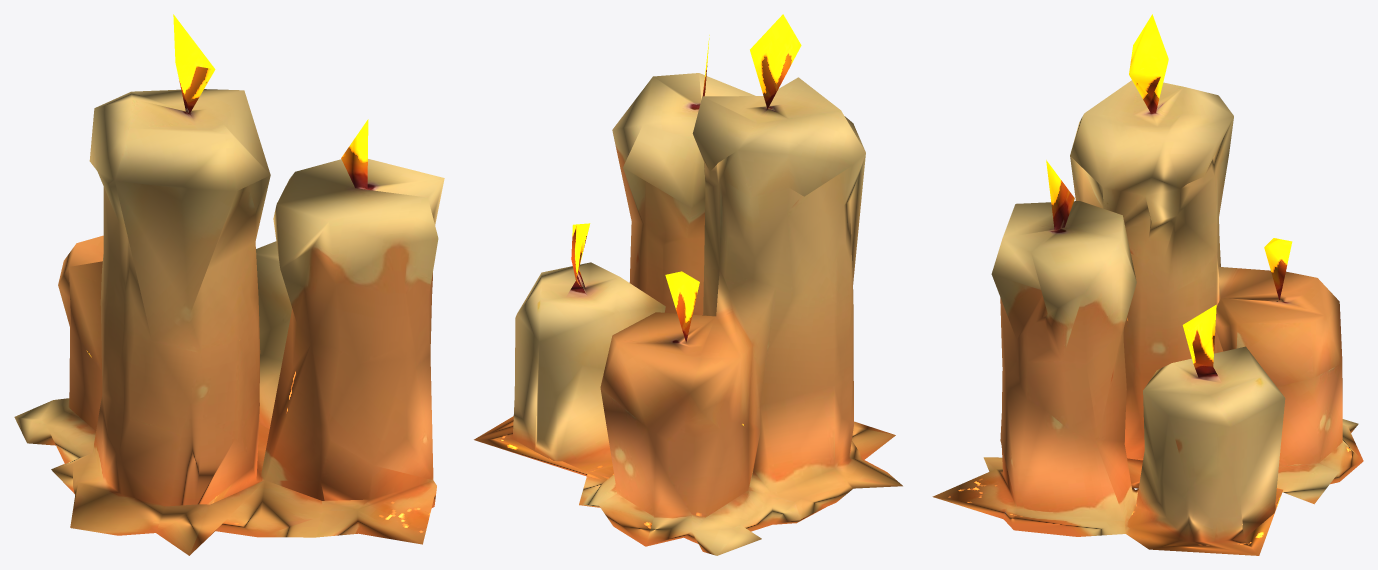
The model's file is cr_candles-KfvzY1RT.glb.
3 renders of one model, left to right at view 1: azimuth 30°, elevation 25°; view 2: azimuth 150°, elevation 25°; view 3: azimuth 270°, elevation 25°, orthographic. The views are drawn at different scales.
Visible parts, largest first — view 1: tripo_node_33cfa975-b57f-4ea0-9b36-2427ceab09d9; view 2: tripo_node_33cfa975-b57f-4ea0-9b36-2427ceab09d9; view 3: tripo_node_33cfa975-b57f-4ea0-9b36-2427ceab09d9.
Part boxes in pixels (x1,y1,x2,y2): tripo_node_33cfa975-b57f-4ea0-9b36-2427ceab09d9: (14, 14, 444, 555); tripo_node_33cfa975-b57f-4ea0-9b36-2427ceab09d9: (474, 14, 902, 555); tripo_node_33cfa975-b57f-4ea0-9b36-2427ceab09d9: (932, 14, 1363, 555).
Size of the model in its own units: 0.787 by 0.95 by 0.8535.
Materials: 1 (1 with a texture image).
